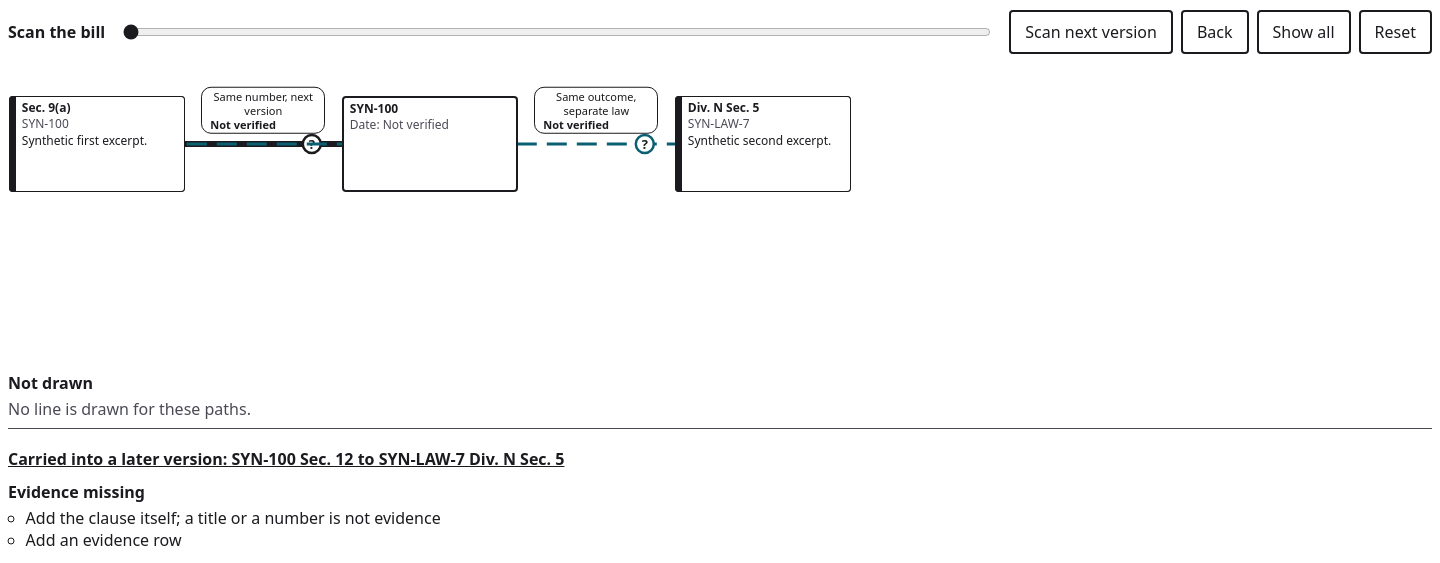
scanner: motion › otherwise the buttons glide: the state is in between, then arrives
What coordinates should you click on to do the following:
click the button "Show all"
I would click on:
 (1304, 32)
Its box is [1256,10,1350,54].
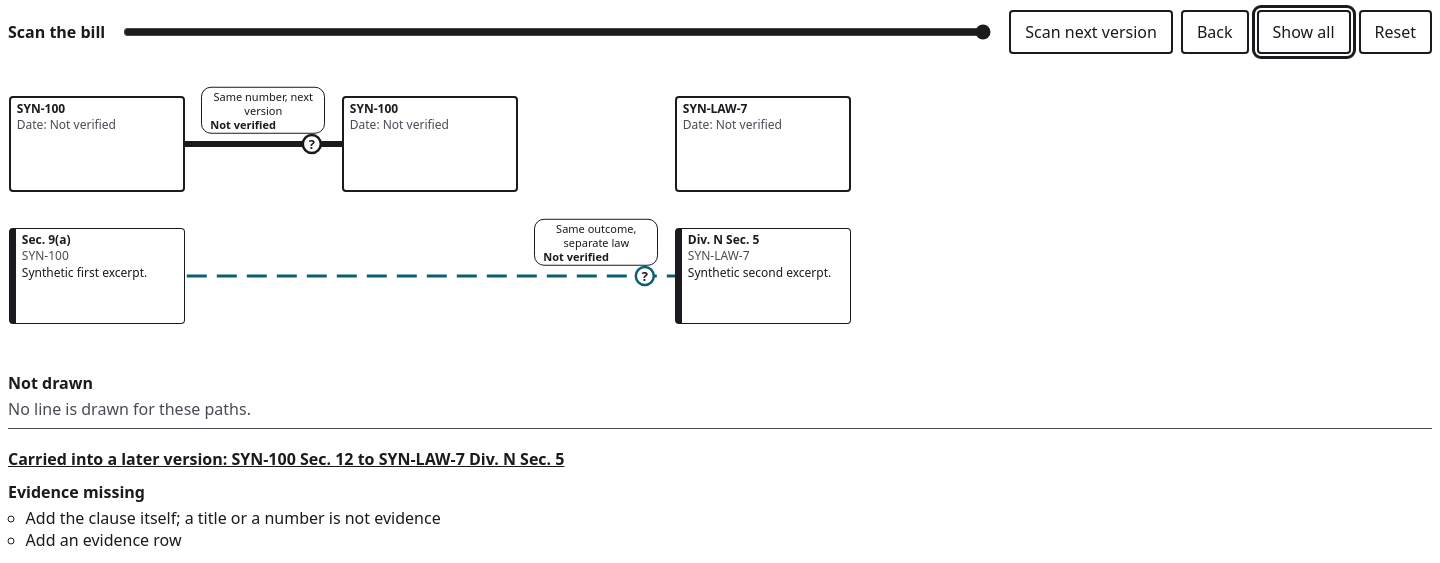
Now the slider labelled "Scan the bill" holds "3", box [123,10,991,54]
